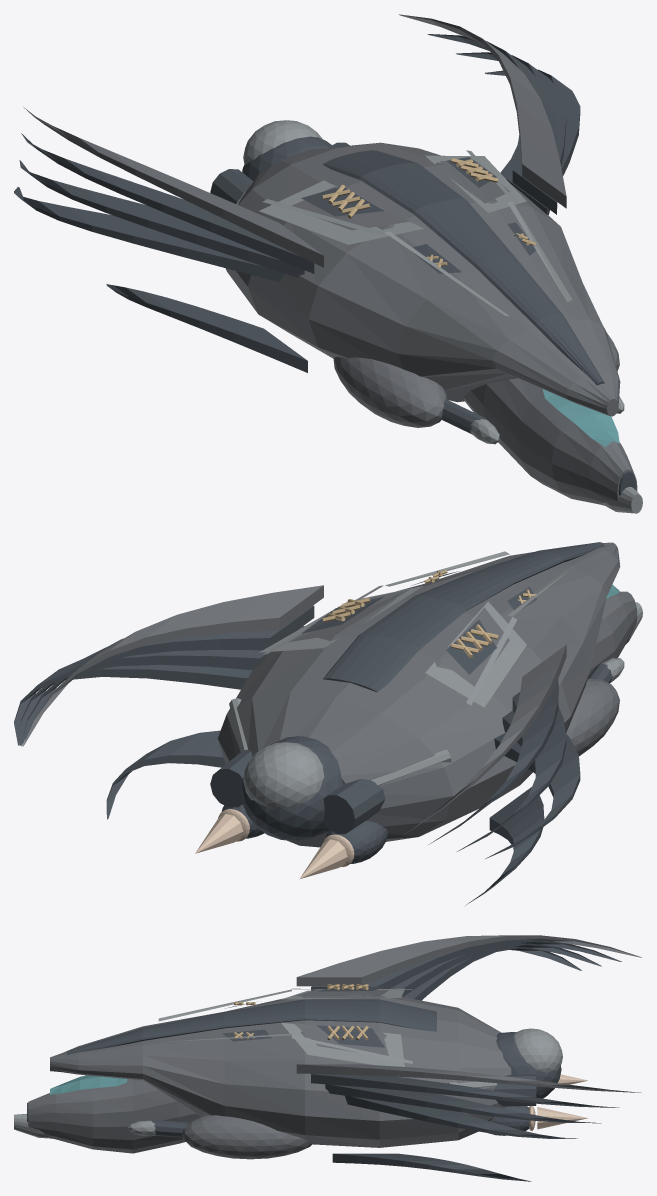
File: thrill_obsidian_flight.glb
The picture shows the model from 3 angles, top to bottom: view 1: azimuth 30°, elevation 25°; view 2: azimuth 150°, elevation 25°; view 3: azimuth 270°, elevation 25°; orthographic projection. The views are drawn at different scales.
Parts seen in each view (by area): view 1: hull_0, hull_1, hull_2, wing_R_pivot_blade0, wing_L_pivot_blade0, wing_L_pivot_blade2, wing_L_pivot_blade1, wing_L_pivot_blade3, fin_L_pivot_blade1, wing_R_pivot_blade1, hull_3, wing_R_pivot_blade2 (+2 smaller); view 2: hull_0, hull_1, hull_2, wing_R_pivot_blade0, wing_R_pivot_blade1, wing_R_pivot_blade3, wing_L_pivot_blade0, wing_R_pivot_blade2, hull_5, fin_R_pivot_blade1, fin_L_pivot_blade1, wing_L_pivot_blade1 (+3 smaller); view 3: hull_0, hull_1, hull_2, wing_L_pivot_blade0, wing_R_pivot_blade1, wing_R_pivot_blade0, wing_R_pivot_blade2, wing_R_pivot_blade3, fin_R_pivot_blade1, wing_L_pivot_blade1, wing_L_pivot_blade2, wing_L_pivot_blade3 (+3 smaller).
Boxes of the visible parts, x1,y1,x2,y2 form: hull_0: (225,142,637,505); hull_1: (210,136,636,495); hull_2: (236,120,642,513); wing_R_pivot_blade0: (399,14,566,208); wing_L_pivot_blade0: (23,107,323,267); wing_L_pivot_blade2: (19,160,304,277); wing_L_pivot_blade1: (21,133,314,273); wing_L_pivot_blade3: (14,187,284,282); fin_L_pivot_blade1: (106,284,307,372); wing_R_pivot_blade1: (427,34,558,214); hull_3: (542,389,619,447); wing_R_pivot_blade2: (456,52,566,214); hull_0: (217,542,637,847); hull_1: (210,542,612,863); hull_2: (229,551,642,808); wing_R_pivot_blade0: (22,585,323,746); wing_R_pivot_blade1: (21,605,314,746); wing_R_pivot_blade3: (14,660,252,745); wing_L_pivot_blade0: (400,644,566,837); wing_R_pivot_blade2: (19,626,304,745); hull_5: (195,809,354,879); fin_R_pivot_blade1: (106,730,225,819); fin_L_pivot_blade1: (465,787,544,905); wing_L_pivot_blade1: (428,679,558,844); hull_0: (28,989,511,1159); hull_1: (27,986,561,1137); hull_2: (14,988,562,1138); wing_L_pivot_blade0: (296,935,641,986); wing_R_pivot_blade1: (311,1074,619,1107); wing_R_pivot_blade0: (296,1064,641,1092); wing_R_pivot_blade2: (325,1084,601,1123); wing_R_pivot_blade3: (345,1095,577,1138); fin_R_pivot_blade1: (332,1153,531,1181); wing_L_pivot_blade1: (311,939,621,990); wing_L_pivot_blade2: (390,943,601,996); wing_L_pivot_blade3: (404,946,581,1000).
Size of the model in its own units: 3.07 by 1.12 by 4.39.
